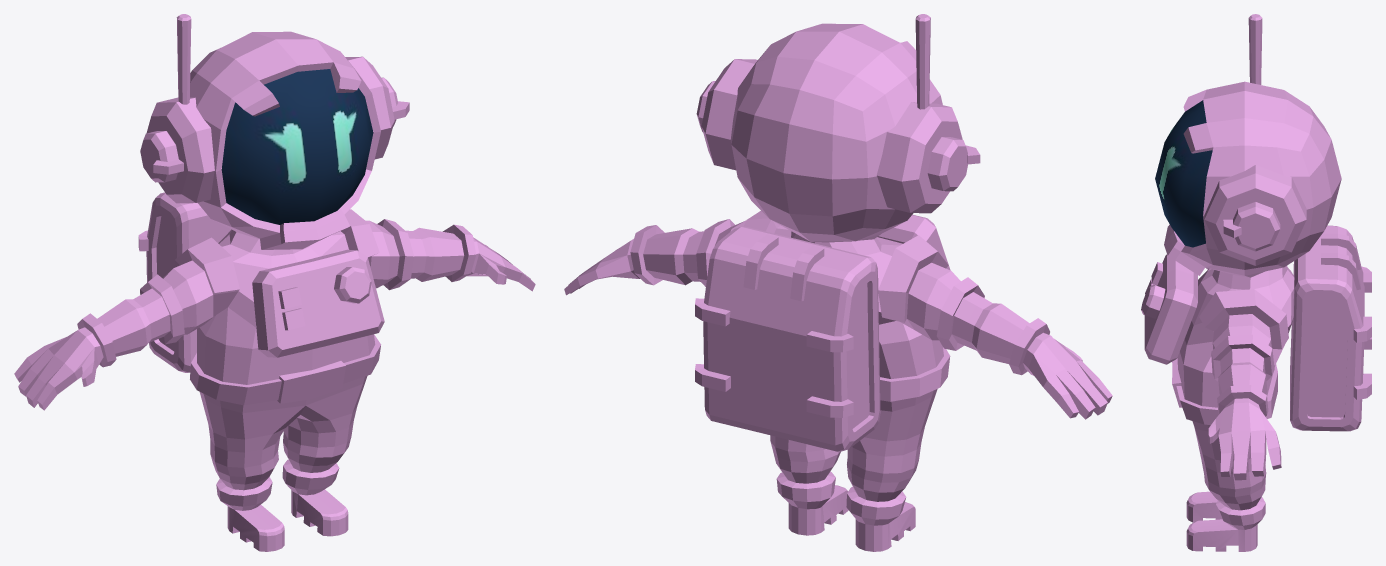
Rendered from Robot 2.fbx.
The picture shows the model from 3 angles, left to right: view 1: azimuth 30°, elevation 25°; view 2: azimuth 150°, elevation 25°; view 3: azimuth 270°, elevation 25°; orthographic projection. The views are drawn at different scales.
Visible parts, largest first — view 1: Cylinder; view 2: Cylinder; view 3: Cylinder.
Boxes of the visible parts, box(x1,y1,x2,y2) form: Cylinder: box(14, 14, 535, 551); Cylinder: box(564, 14, 1112, 551); Cylinder: box(1141, 14, 1371, 551).
Bounding box in the file's own units: 310 × 310 × 136.
Materials: 2 (1 with a texture image).
